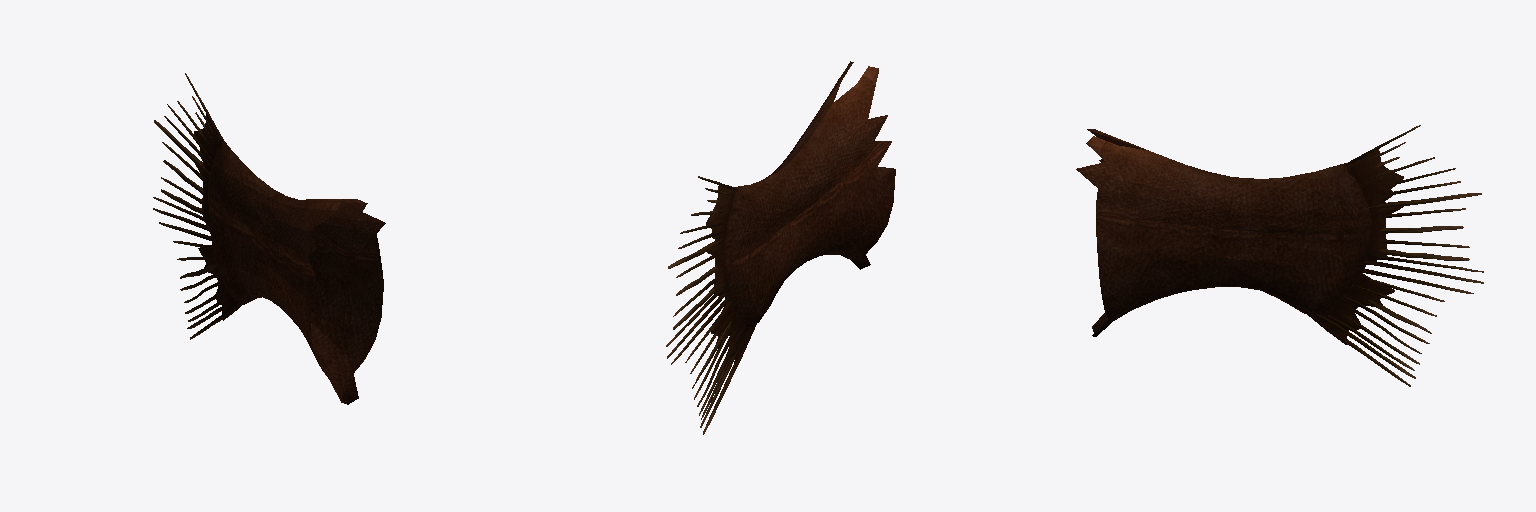
3 views of the same model, side by side, from view 1: azimuth 30°, elevation 25°; view 2: azimuth 150°, elevation 25°; view 3: azimuth 270°, elevation 25° (orthographic).
Visible parts, largest first — view 1: common_fangtooth_LOD2.002_Material_0; view 2: common_fangtooth_LOD2.002_Material_0; view 3: common_fangtooth_LOD2.002_Material_0.
Part boxes in pixels (x1,y1,x2,y2): common_fangtooth_LOD2.002_Material_0: (153, 73, 385, 404); common_fangtooth_LOD2.002_Material_0: (666, 61, 895, 434); common_fangtooth_LOD2.002_Material_0: (1076, 125, 1483, 386).
Size of the model in its own units: 0.2687 by 0.9228 by 1.3.
Materials: 1 (1 with a texture image).